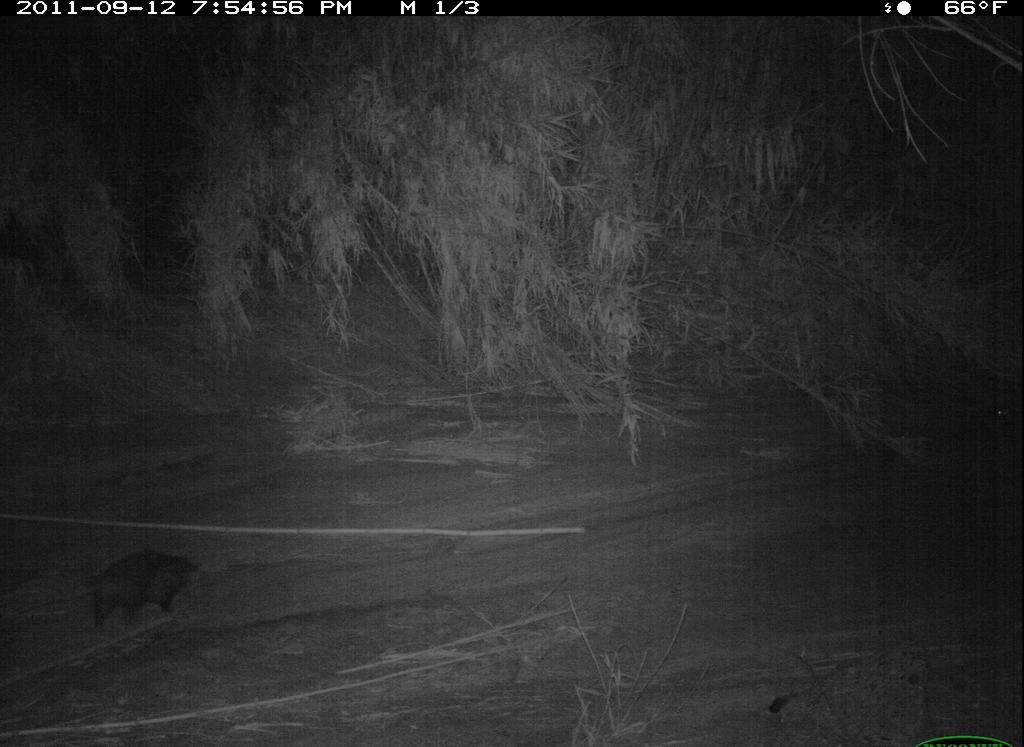opossum: (39, 537, 221, 641)
